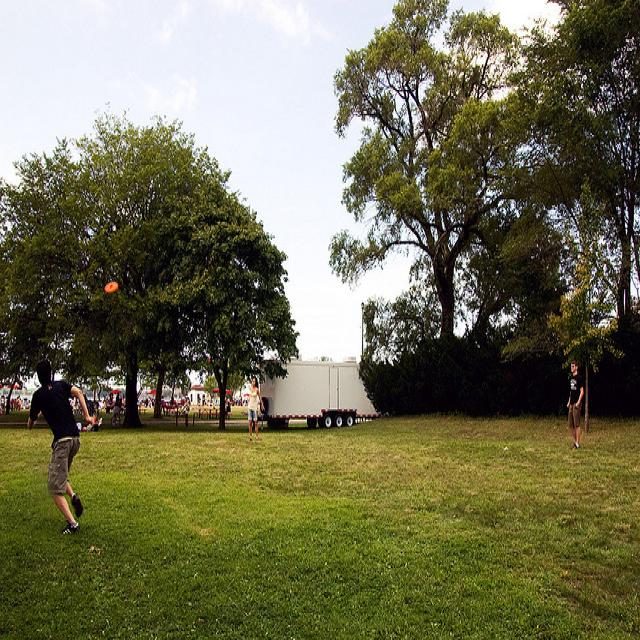Vehicle: (259, 362, 383, 431)
